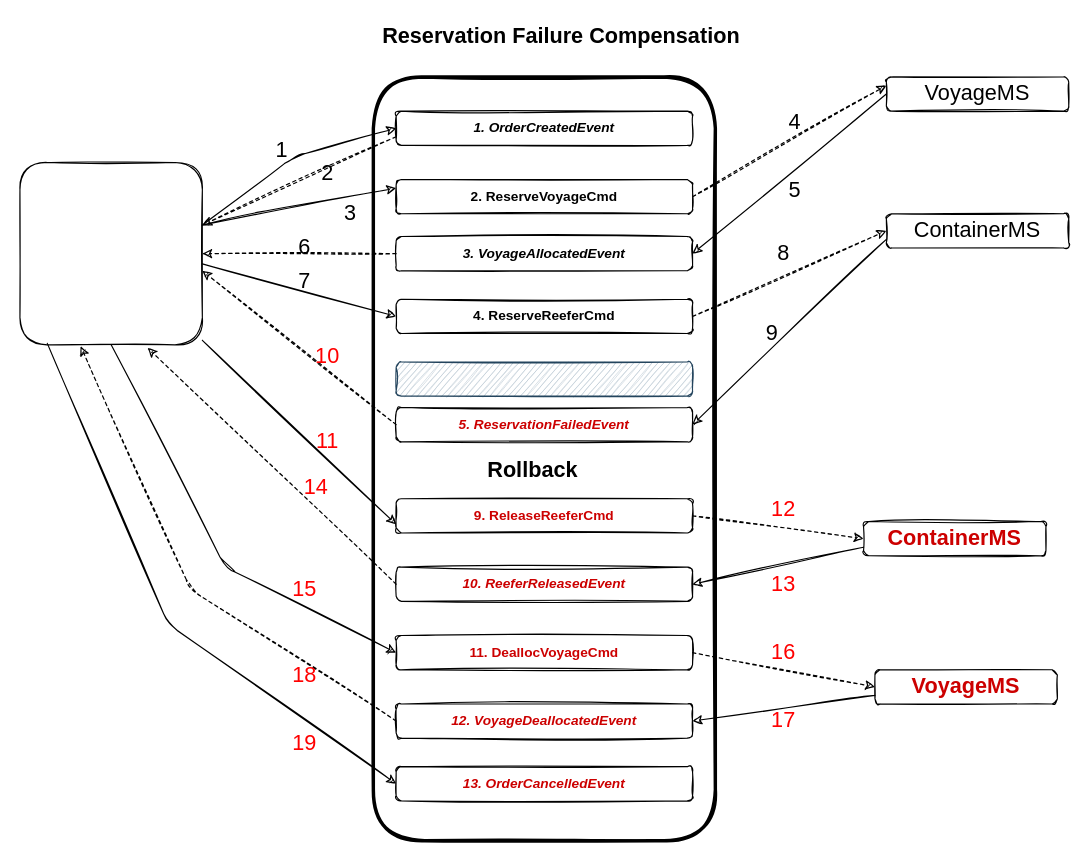
Some shapes in this 1089 by 862 pixel diagram are drawn without their labels. The shapes that lost their labels are listed below. From the top down, each one's centre as x and y in pixels, then its label:
At point 110,253: "OrderServiceSaga".
At point 544,378: "5. ReeferReservedEvent".
